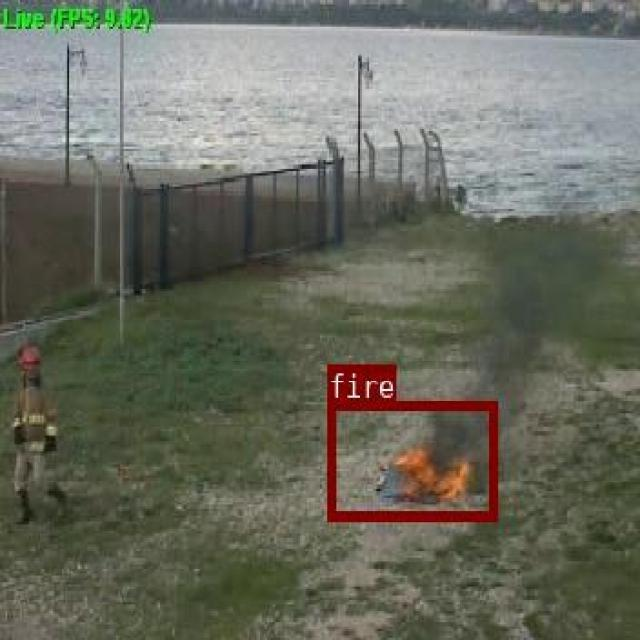fire: (326, 398, 496, 518)
